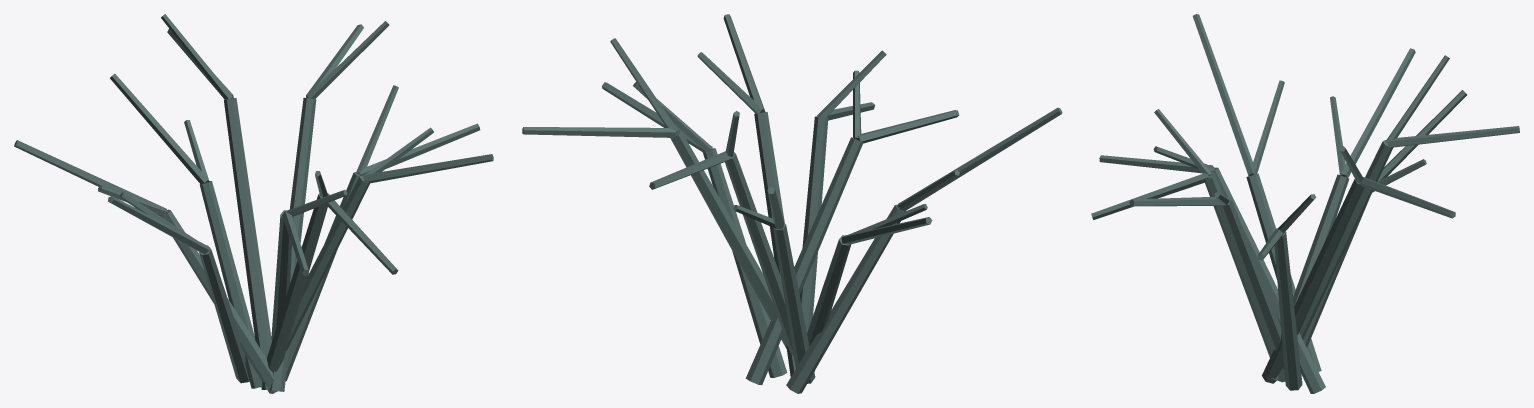
Rendered from old_klim_scrub_blue_a.glb.
3 renders of one model, left to right at view 1: azimuth 30°, elevation 25°; view 2: azimuth 150°, elevation 25°; view 3: azimuth 270°, elevation 25°, orthographic. The views are drawn at different scales.
Parts seen in each view (by area): view 1: old_klim_scrub_blue_a_old_klim_oxidised_blue_scrub_ground_de; view 2: old_klim_scrub_blue_a_old_klim_oxidised_blue_scrub_ground_de; view 3: old_klim_scrub_blue_a_old_klim_oxidised_blue_scrub_ground_de.
Boxes of the visible parts, x1,y1,x2,y2 form: old_klim_scrub_blue_a_old_klim_oxidised_blue_scrub_ground_de: (14, 14, 493, 393); old_klim_scrub_blue_a_old_klim_oxidised_blue_scrub_ground_de: (522, 14, 1062, 393); old_klim_scrub_blue_a_old_klim_oxidised_blue_scrub_ground_de: (1091, 14, 1519, 393).
Size of the model in its own units: 1.24 by 0.9379 by 1.15.
